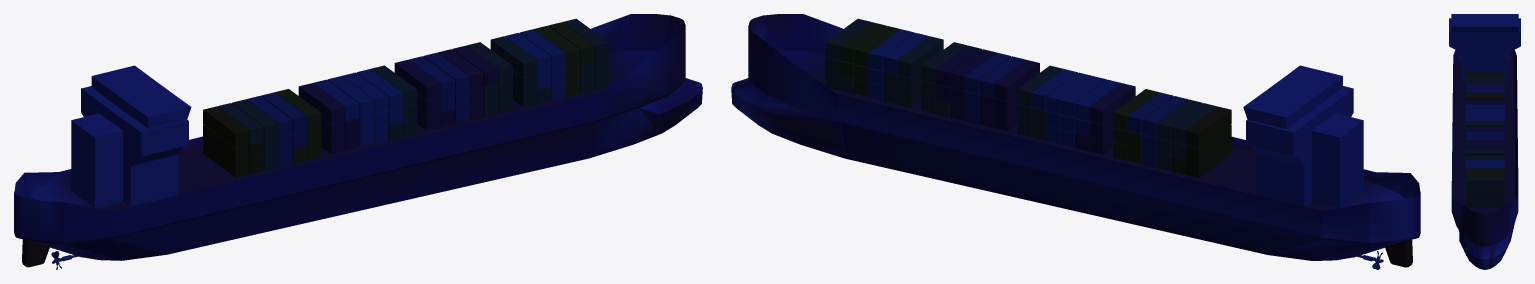
File: cargo.glb
3 views of the same model, side by side, from view 1: azimuth 30°, elevation 25°; view 2: azimuth 150°, elevation 25°; view 3: azimuth 270°, elevation 25° (orthographic). The views are drawn at different scales.
Visible parts, largest first — view 1: Node1, Node3, Node2, Node4; view 2: Node1, Node3, Node2, Node4; view 3: Node1, Node3, Node2.
Part boxes in pixels (<box>): Node1: <box>14,14,702,260</box>; Node3: <box>203,18,608,177</box>; Node2: <box>71,65,191,207</box>; Node4: <box>22,239,49,267</box>; Node1: <box>731,14,1420,260</box>; Node3: <box>825,18,1231,177</box>; Node2: <box>1243,65,1363,208</box>; Node4: <box>1385,239,1412,267</box>; Node1: <box>1451,50,1518,269</box>; Node3: <box>1465,72,1504,207</box>; Node2: <box>1449,14,1520,81</box>.
Size of the model in its own units: 0.7617 by 0.1671 by 0.1155.
